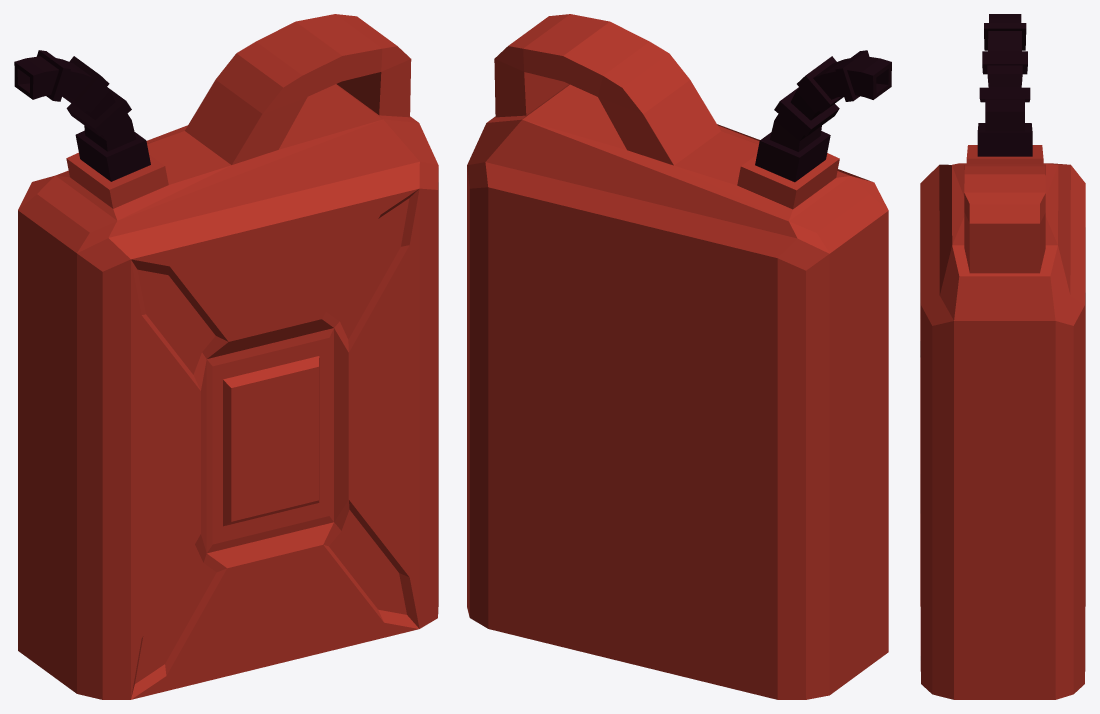
File: Gasolina.glb
3 renders of one model, left to right at view 1: azimuth 30°, elevation 25°; view 2: azimuth 150°, elevation 25°; view 3: azimuth 270°, elevation 25°, orthographic. The views are drawn at different scales.
Visible parts, largest first — view 1: Gasolina; view 2: Gasolina; view 3: Gasolina.
Part boxes in pixels (x1,y1,x2,y2): Gasolina: [14, 14, 438, 699]; Gasolina: [467, 14, 891, 699]; Gasolina: [920, 14, 1085, 699].
Size of the model in its own units: 0.5278 by 0.8017 by 0.2282.
